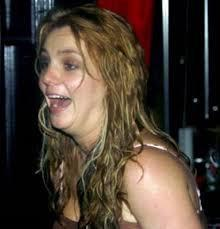Drunk: (39, 29, 97, 131)
